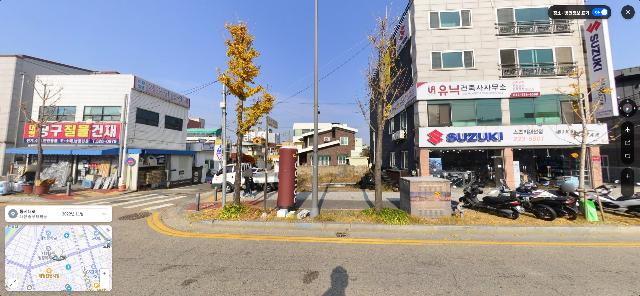ginkgo: (215, 7, 275, 209), (356, 0, 399, 215), (557, 60, 614, 220)
other: (28, 80, 63, 185)
